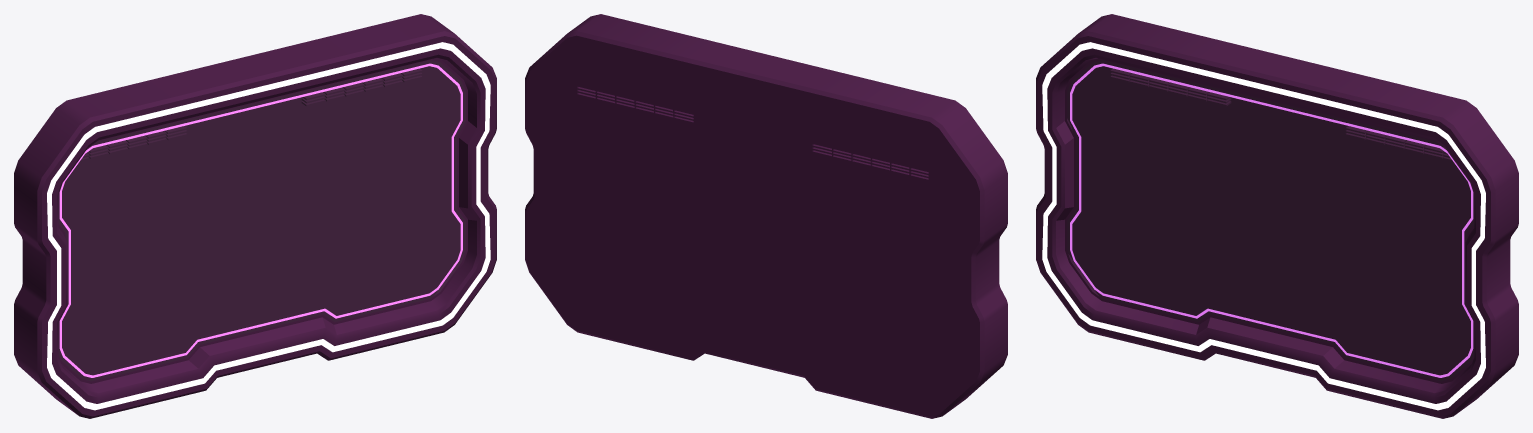
File: tablet.gltf
3 renders of one model, left to right at view 1: azimuth 30°, elevation 25°; view 2: azimuth 150°, elevation 25°; view 3: azimuth 330°, elevation 25°, orthographic.
Parts seen in each view (by area): view 1: Tablet; view 2: Tablet; view 3: Tablet.
Part boxes in pixels (x1,y1,x2,y2): Tablet: (14, 14, 496, 418); Tablet: (525, 14, 1007, 418); Tablet: (1036, 14, 1518, 418).
Bounding box in the file's own units: 4.07 × 2.55 × 0.4091.
